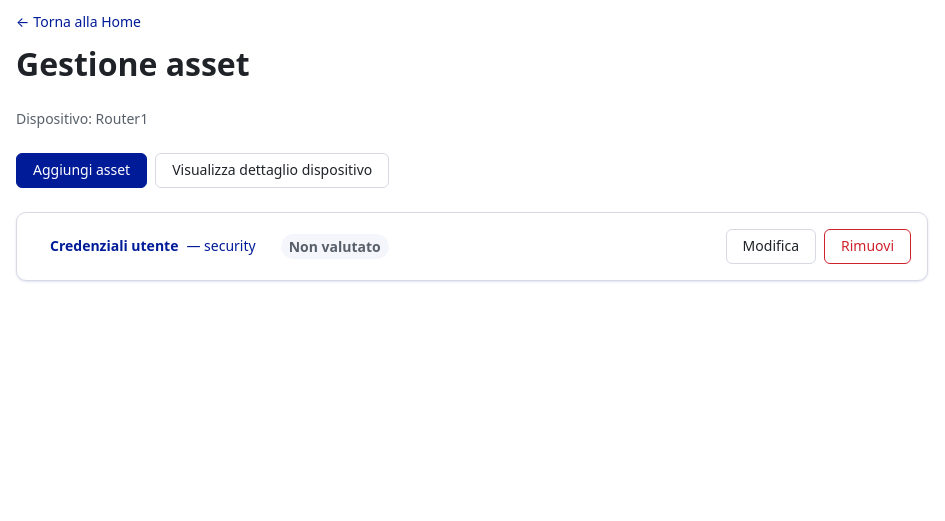
Test case: DeviceAssetManagementPage › reveals description, sensitivity and requirements when the asset is selected (UC-15.6)
Click the button "Credenziali utente — security" at {"x": 153, "y": 246}, box [33, 229, 273, 264]
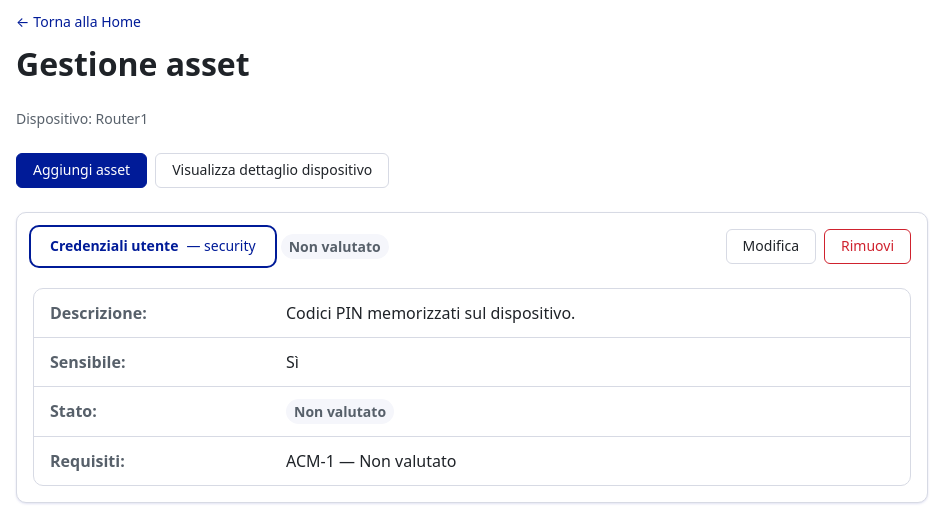
Check: the text "Codici PIN memorizzati sul dispositivo." is shown, box [286, 302, 575, 324]
Check: the text "Sì" is shown, box [286, 351, 299, 373]
Check: the list item "ACM-1" is shown, box [286, 450, 335, 472]
